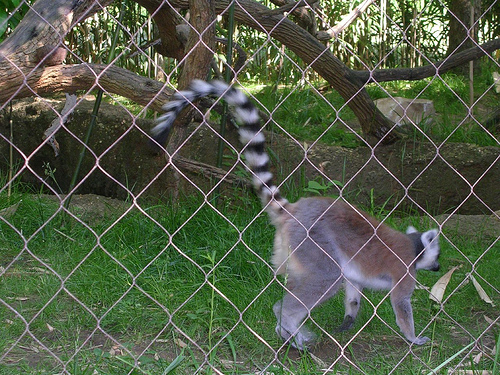cat: (146, 74, 444, 348)
